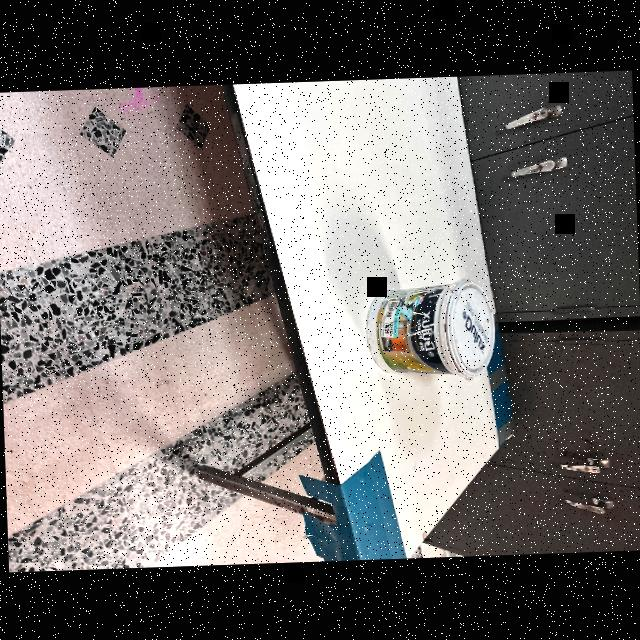paint_bucket: (358, 256, 498, 405)
